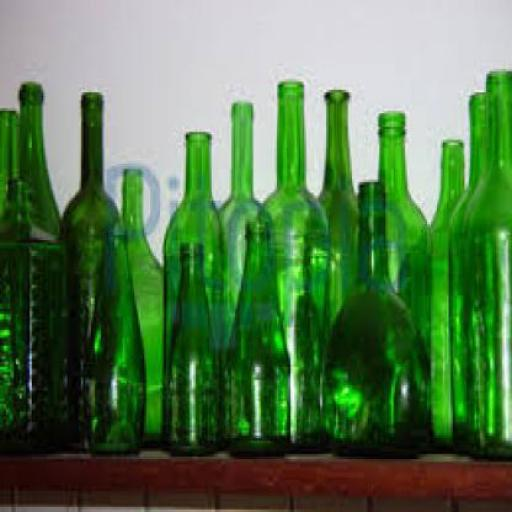glass: (318, 180, 428, 454), (261, 78, 329, 452), (0, 174, 68, 451), (462, 69, 510, 457), (73, 224, 142, 452), (222, 217, 286, 454), (447, 92, 486, 452), (162, 238, 222, 454), (375, 108, 427, 348), (427, 140, 467, 448), (119, 166, 162, 449), (162, 130, 222, 328), (60, 86, 118, 278), (219, 100, 263, 325), (316, 90, 356, 304), (16, 80, 62, 230), (0, 108, 16, 187)
